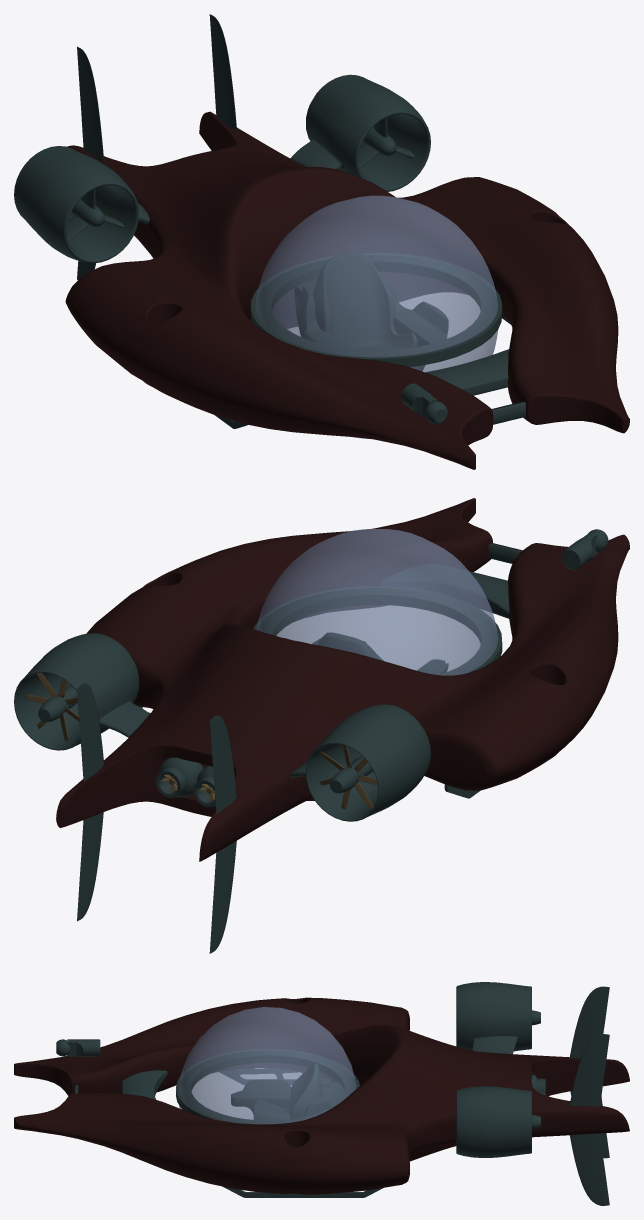
Rendered from GL_glider_1.fbx.
3 views of the same model, one above another, from view 1: azimuth 30°, elevation 25°; view 2: azimuth 150°, elevation 25°; view 3: azimuth 270°, elevation 25° (orthographic). The views are drawn at different scales.
Parts seen in each view (by area): view 1: GL_hull, GL_bubble_01, GL_seat, GL_ring_01, GL_fins_r, GL_fins_l, GL_light_1; view 2: GL_hull, GL_bubble_01, GL_ring_01, GL_fins_r, GL_fins_l, GL_small_thruster_housing_l1, GL_seat, GL_light_1, GL_thruster_blades_r, GL_thruster_blades_l; view 3: GL_hull, GL_bubble_01, GL_ring_01, GL_fins_l, GL_seat, GL_fins_r, GL_light_1.
Part boxes in pixels (x1,y1,x2,y2): GL_hull: (14,74,629,469); GL_bubble_01: (255,195,498,438); GL_seat: (294,252,448,371); GL_ring_01: (251,253,502,367); GL_fins_r: (77,46,104,279); GL_fins_l: (209,14,236,129); GL_light_1: (401,383,447,424); GL_hull: (14,498,629,861); GL_bubble_01: (256,529,498,675); GL_ring_01: (253,586,502,675); GL_fins_r: (209,715,236,953); GL_fins_l: (77,683,104,921); GL_small_thruster_housing_l1: (155,757,202,797); GL_seat: (312,632,448,674); GL_light_1: (561,529,608,570); GL_thruster_blades_r: (319,745,377,809); GL_thruster_blades_l: (25,672,79,741); GL_hull: (14,982,629,1197); GL_bubble_01: (179,1007,356,1124); GL_ring_01: (176,1049,359,1124); GL_fins_l: (569,1034,609,1205); GL_seat: (231,1063,344,1120); GL_fins_r: (569,986,609,1158); GL_light_1: (56,1039,100,1056).
Size of the model in its own units: 3599 by 1759 by 5712.
